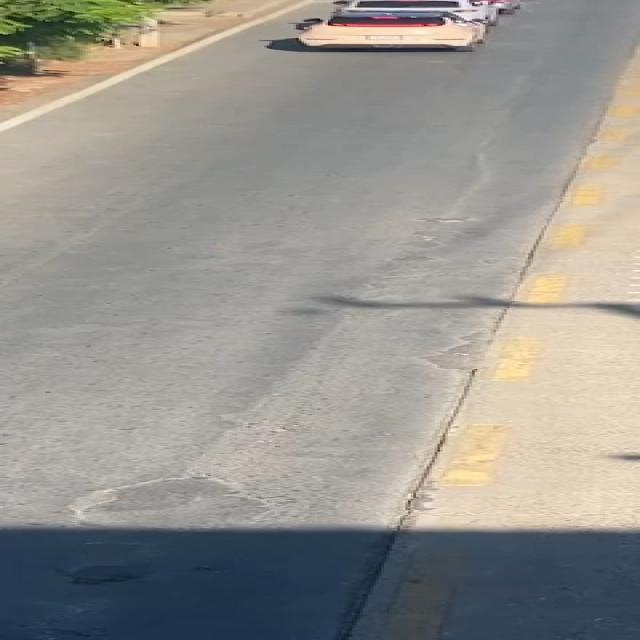car: (263, 5, 514, 56)
